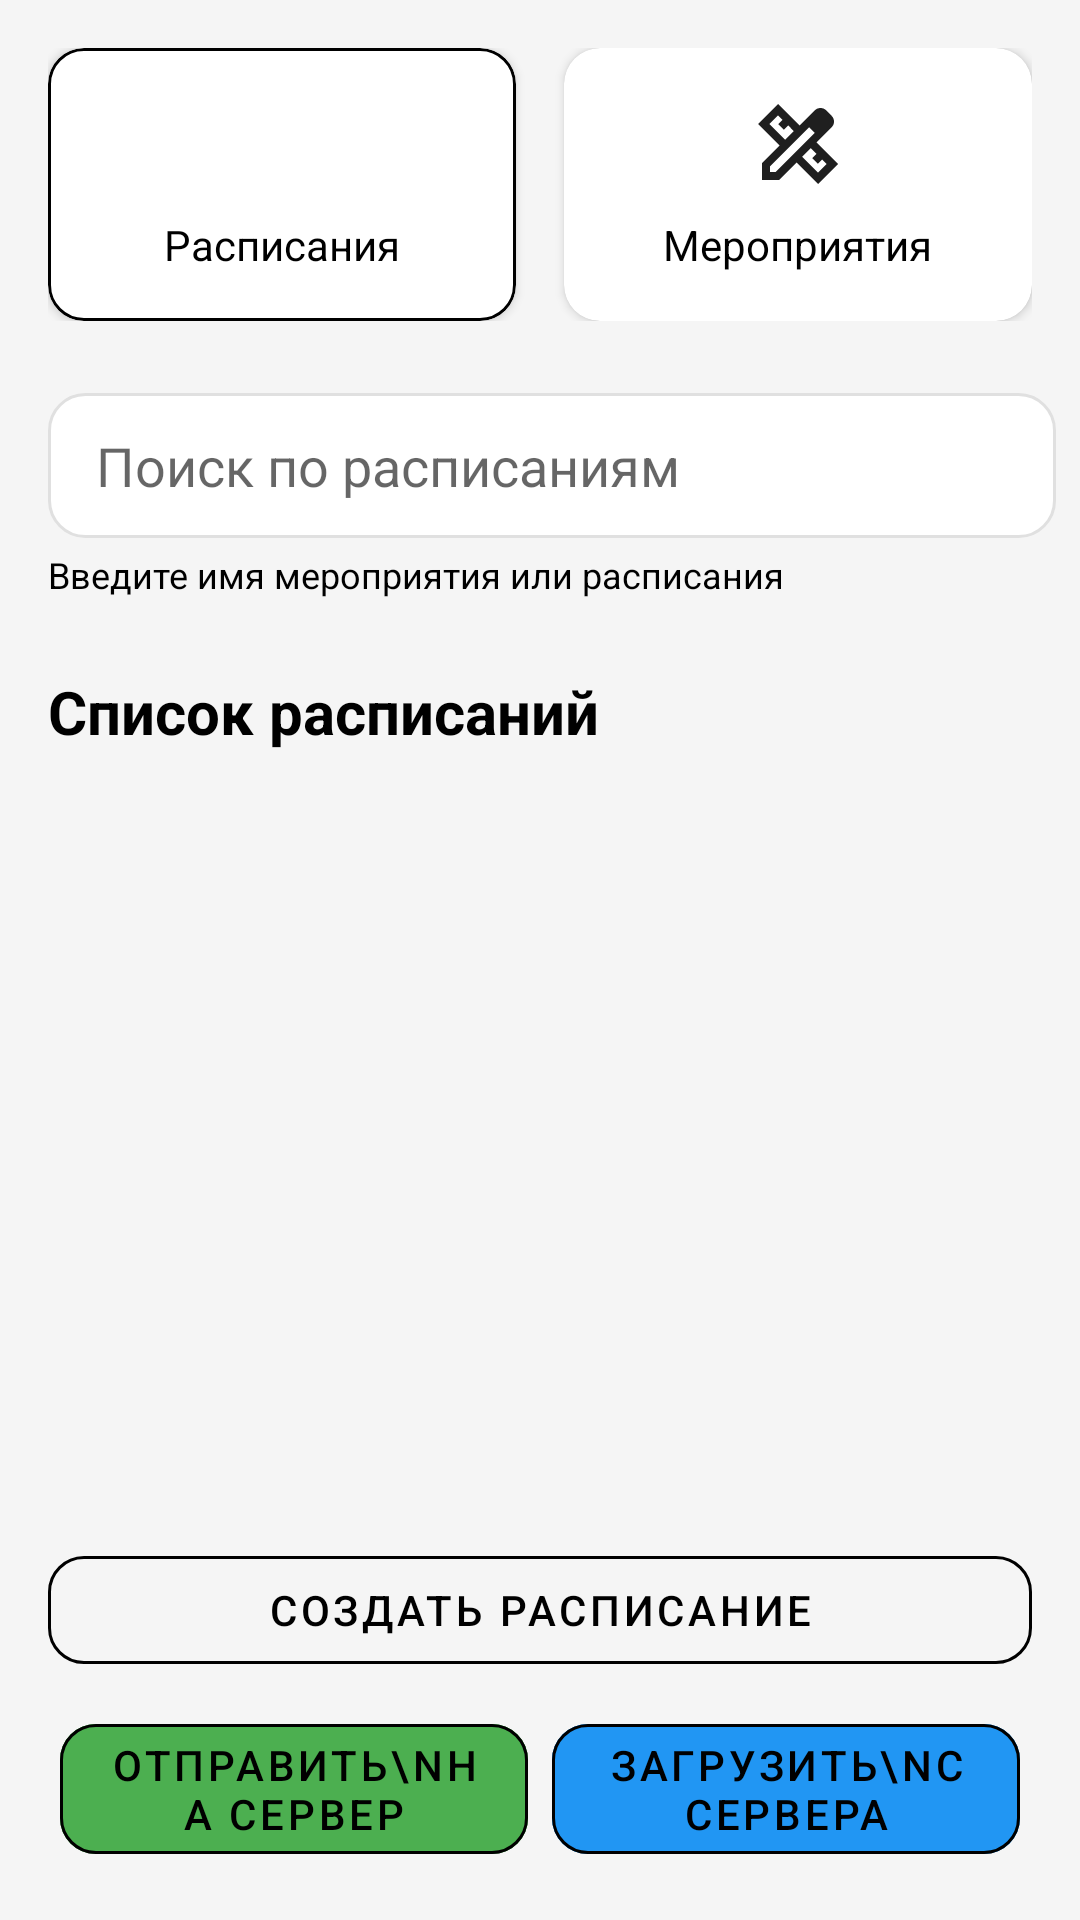

Named icons in this screenshot (1080w x 1920h) and their centers, [x,y]:
design services: [798,144]
